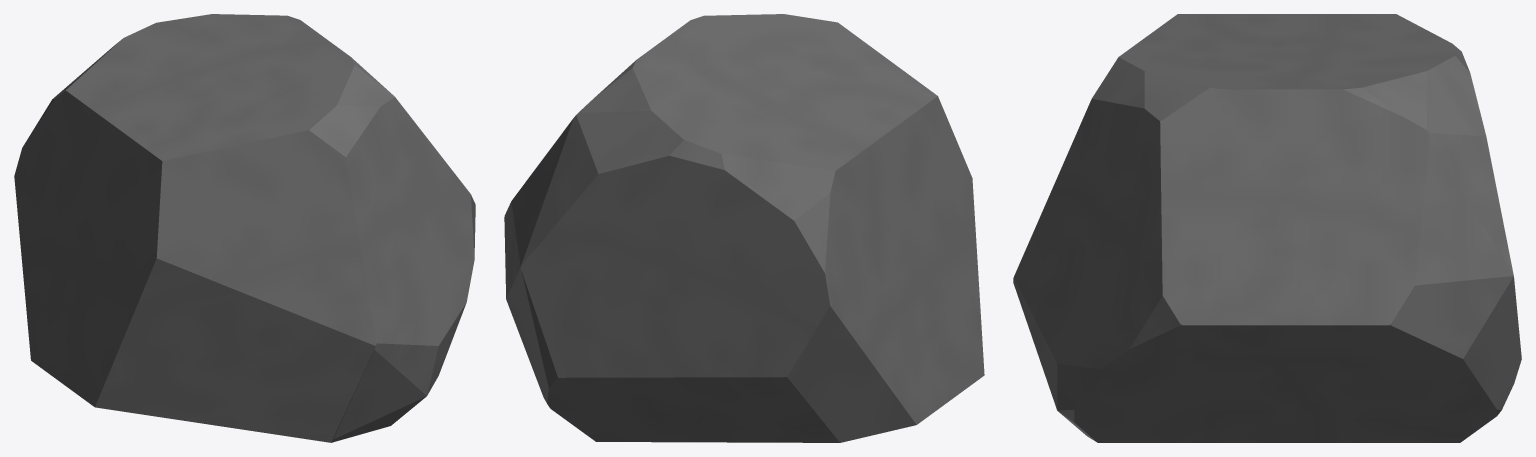
The model's file is Stone.fbx.
3 views of the same model, side by side, from view 1: azimuth 30°, elevation 25°; view 2: azimuth 150°, elevation 25°; view 3: azimuth 270°, elevation 25° (orthographic). The views are drawn at different scales.
Parts seen in each view (by area): view 1: Icosphere; view 2: Icosphere; view 3: Icosphere.
Part boxes in pixels (x1,y1,x2,y2): Icosphere: (14, 14, 475, 442); Icosphere: (504, 14, 984, 442); Icosphere: (1013, 14, 1521, 442).
Bounding box in the file's own units: 200 × 165 × 210.
